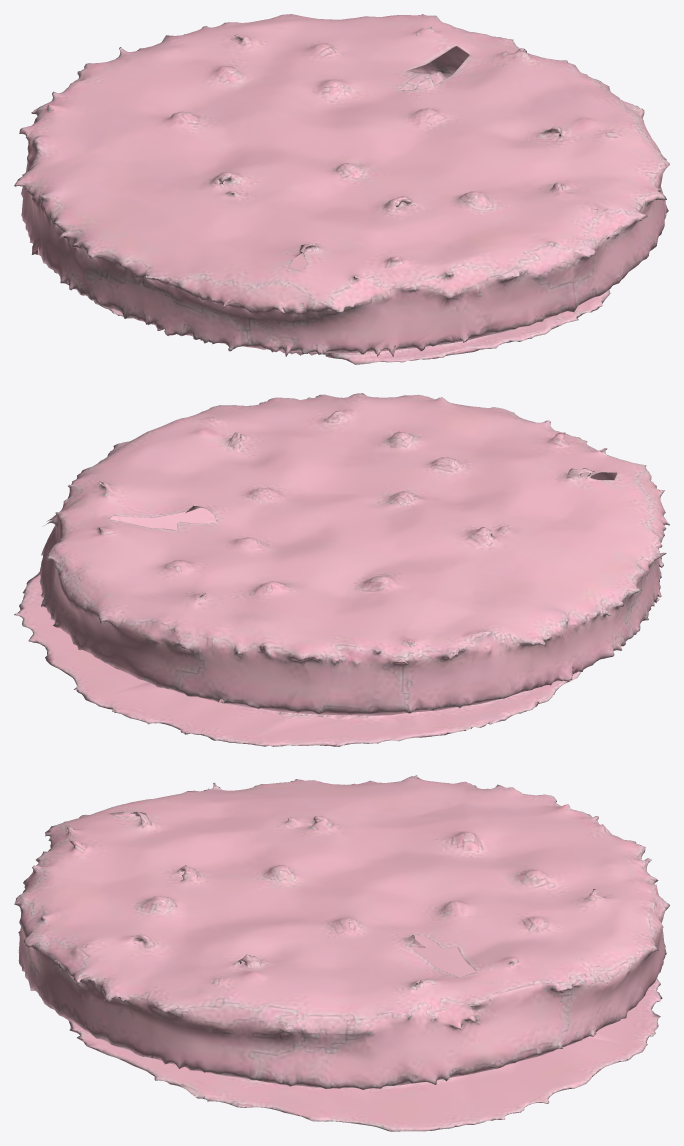
File: Pink_round_rug.glb
3 renders of one model, top to bottom at view 1: azimuth 30°, elevation 25°; view 2: azimuth 150°, elevation 25°; view 3: azimuth 270°, elevation 25°, orthographic. The views are drawn at different scales.
Visible parts, largest first — view 1: RETOPO; view 2: RETOPO; view 3: RETOPO.
Boxes of the visible parts, x1,y1,x2,y2 form: RETOPO: [14, 14, 669, 364]; RETOPO: [14, 393, 669, 746]; RETOPO: [14, 775, 669, 1131].
Bounding box in the file's own units: 0.9542 × 0.1968 × 0.9664.
1 material, 1 textured.
